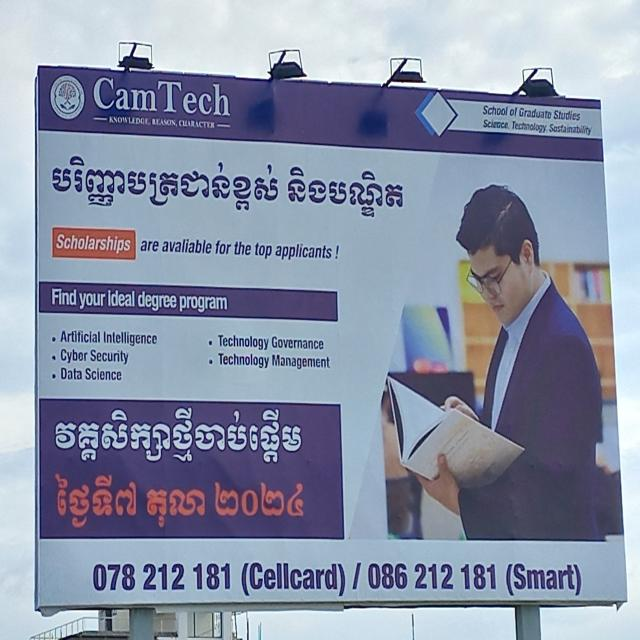Yolov11kh: (48, 147, 406, 223), (50, 403, 312, 461), (51, 472, 312, 530), (89, 557, 232, 592), (366, 559, 499, 589)
